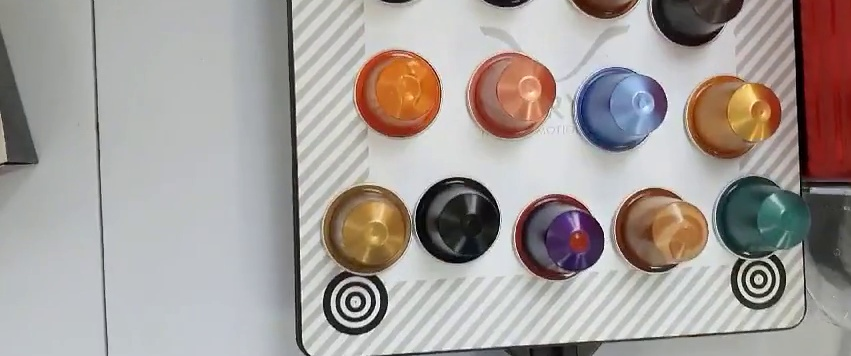capsule_10: (414, 174, 506, 266)
capsule_11: (512, 195, 605, 283)
capsule_12: (612, 183, 710, 274)
capsule_13: (711, 176, 810, 260)
capsule_4: (650, 1, 745, 52)
capsule_5: (352, 48, 441, 139)
capsule_6: (467, 50, 557, 140)
capsule_7: (569, 66, 663, 152)
capsule_8: (684, 70, 779, 158)
capsule_9: (323, 183, 413, 278)
